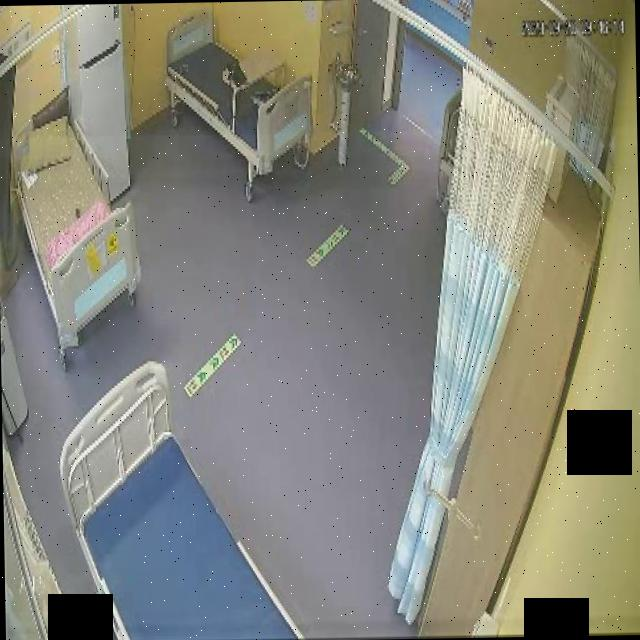bed: (57, 359, 303, 640), (10, 98, 143, 330), (162, 6, 314, 178)
